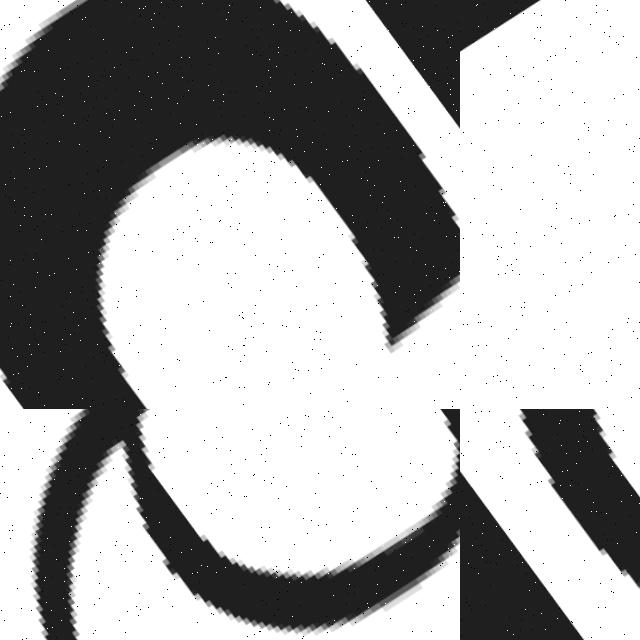6: (0, 409, 460, 640)
C: (0, 0, 460, 409), (512, 409, 640, 589)
J: (460, 0, 640, 409)
